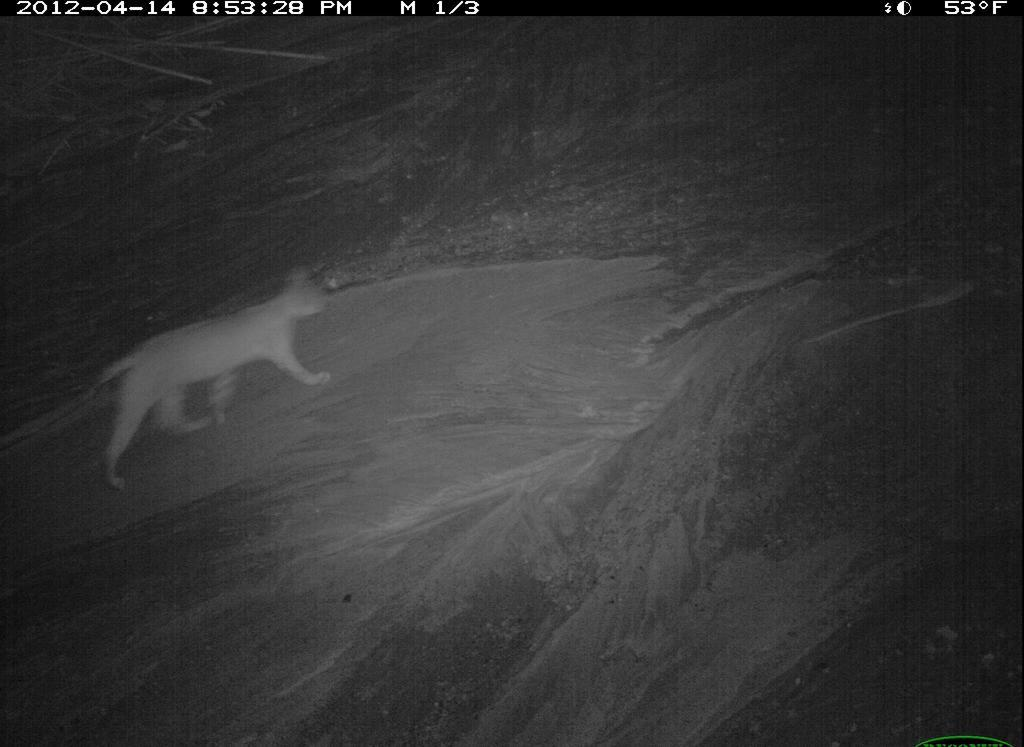bobcat: (169, 515, 679, 747)
